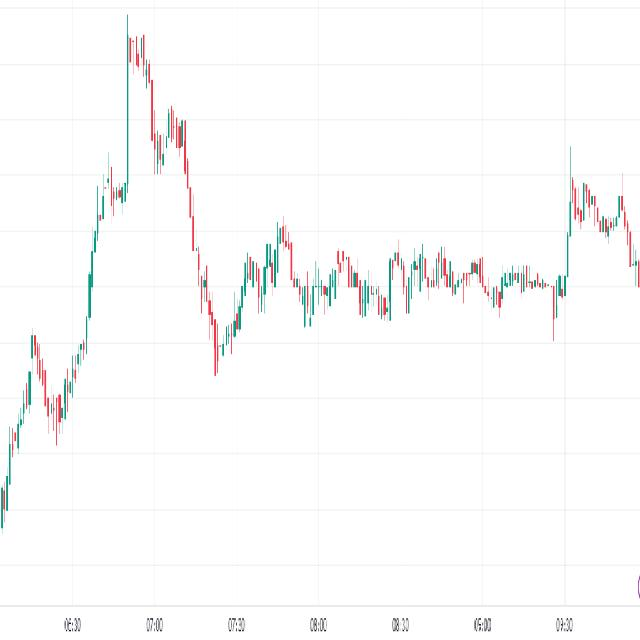Head-Shoulders: (81, 8, 213, 371)
